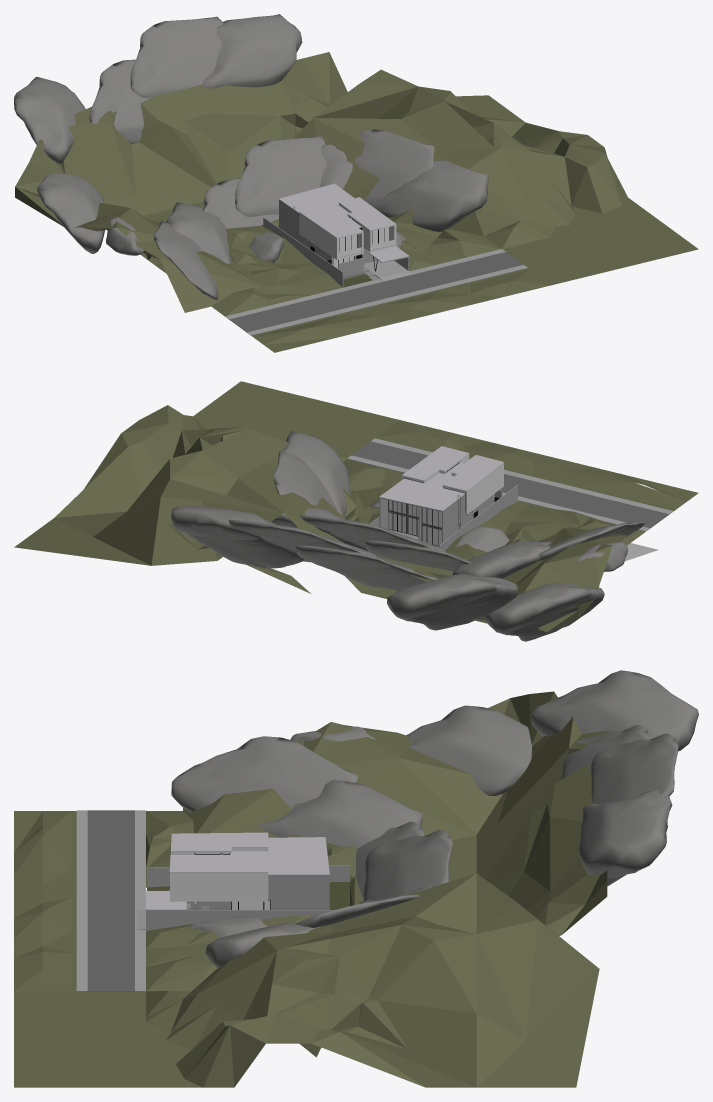
Rendered from casa.glb.
3 renders of one model, top to bottom at view 1: azimuth 30°, elevation 25°; view 2: azimuth 150°, elevation 25°; view 3: azimuth 270°, elevation 25°, orthographic. The views are drawn at different scales.
Visible parts, largest first — view 1: terrain, rocks, house_structure, house_glass; view 2: terrain, rocks, house_structure, house_glass; view 3: terrain, rocks, house_structure.
Part boxes in pixels (x1,y1,x2,y2): terrain: (15,52,698,352); rocks: (14,14,488,299); house_structure: (263,183,411,287); house_glass: (333,216,394,268); terrain: (14,381,698,632); rocks: (171,431,644,641); house_structure: (369,446,517,549); house_glass: (389,462,465,545); terrain: (14,691,607,1087); rocks: (171,670,698,968); house_structure: (136,832,349,930).
Size of the model in its own units: 92.69 by 25.6 by 82.59.
